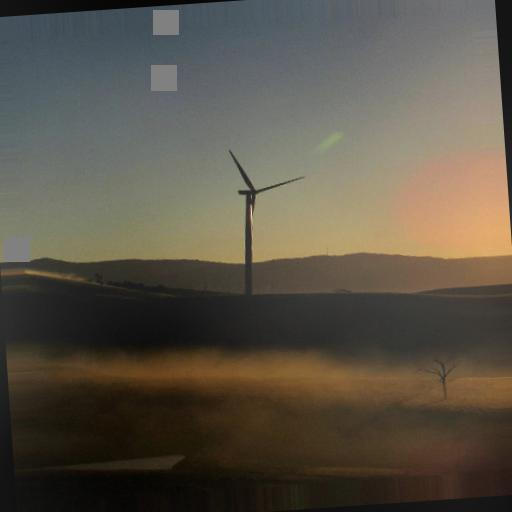wind turbine: (228, 149, 310, 294)
